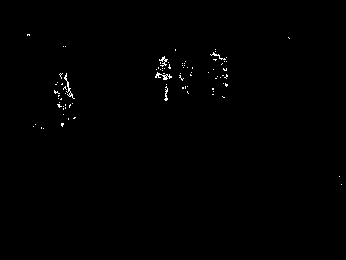person: (55, 71, 76, 127), (155, 55, 172, 101)
